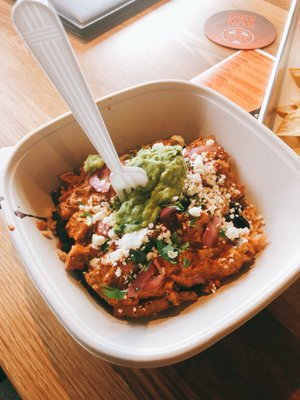salad: (10, 0, 147, 196)
sushi: (0, 80, 300, 383)
